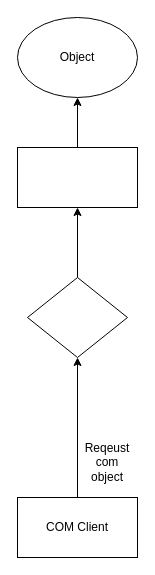
Image size: 155x575. Some labels were removed from this diagram. The shapes that lost their labels are listed below. From the top down, each one's centre as x and y in pixels, then its label:
At pixel 77 177: "COM Server".
At pixel 77 317: "COM Routing".
